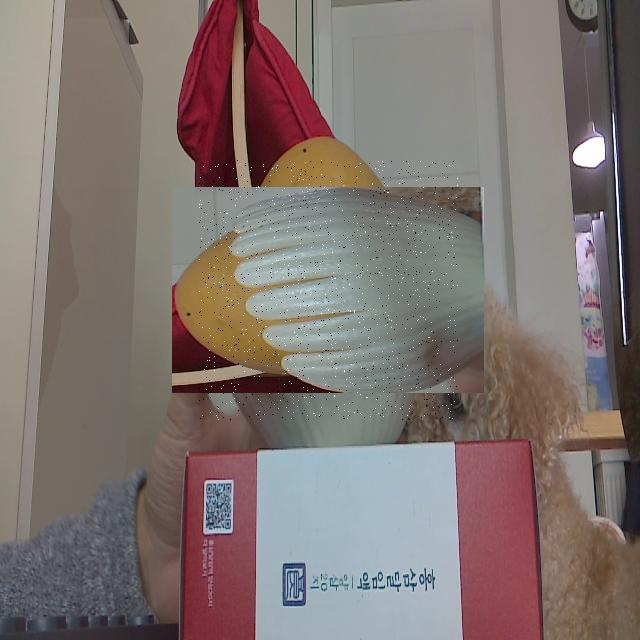pear: (199, 160, 458, 420)
